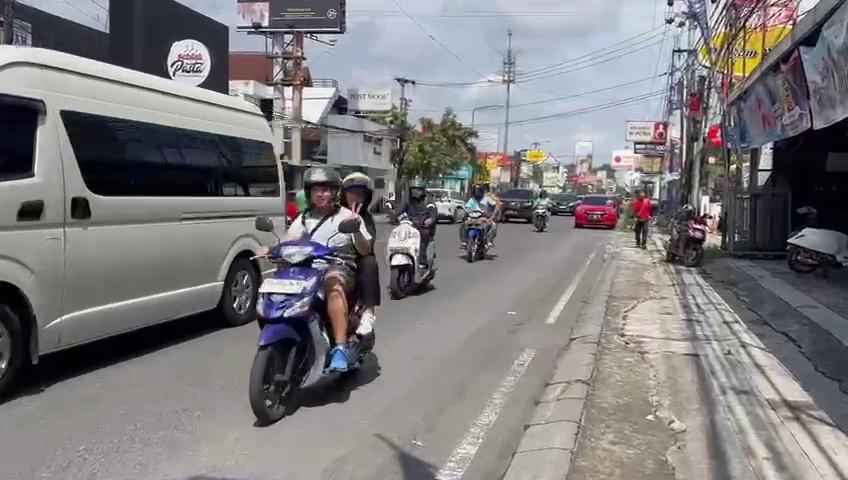helm: (302, 165, 343, 210), (340, 170, 376, 212), (407, 178, 428, 201)
riding: (247, 165, 383, 424), (383, 178, 440, 300)
